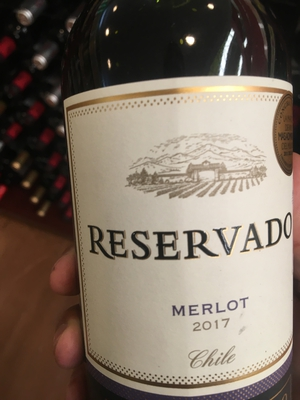reservado merlot: (51, 16, 300, 391)
